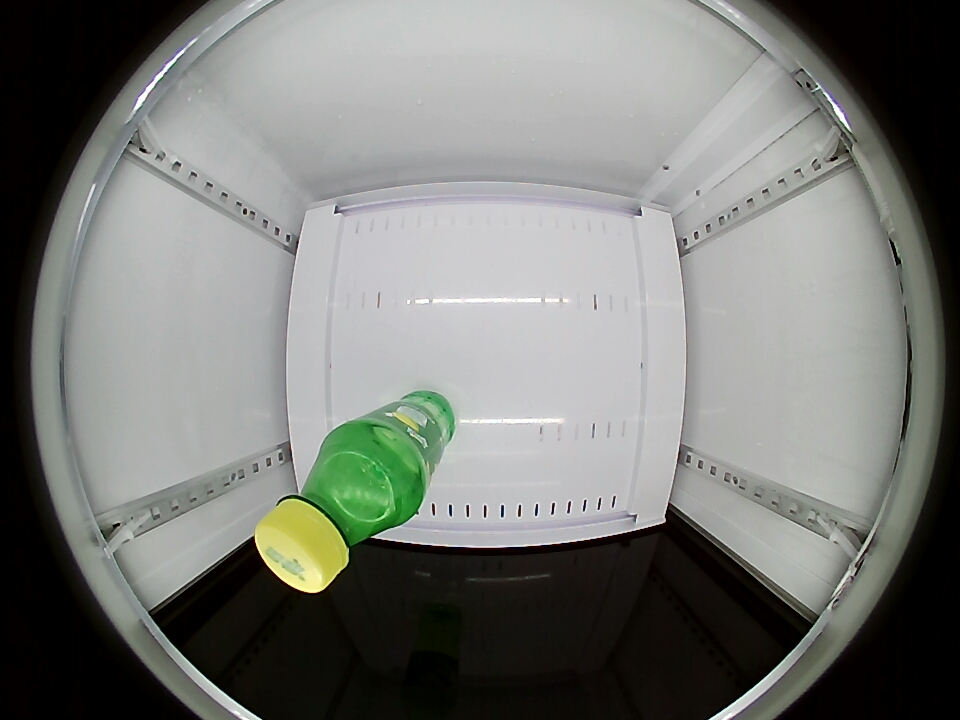xuebi-b: (255, 446, 406, 592)
